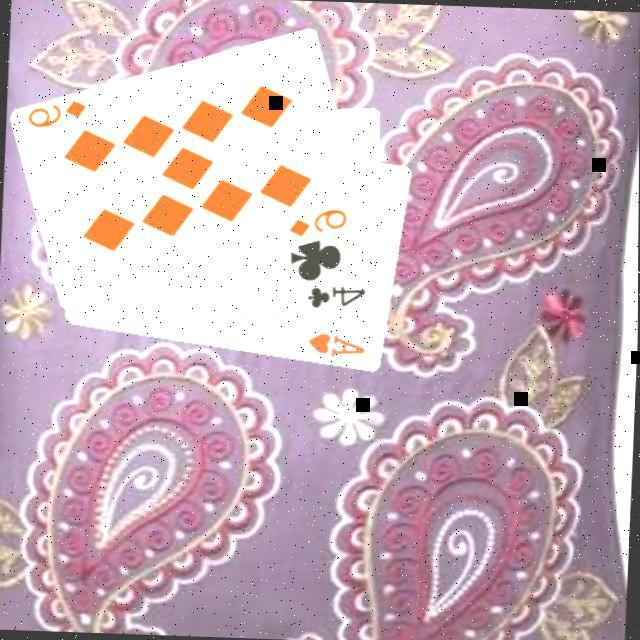4C: (304, 280, 369, 310)
9D: (285, 202, 350, 240), (23, 93, 88, 130)
AH: (304, 327, 368, 359)
